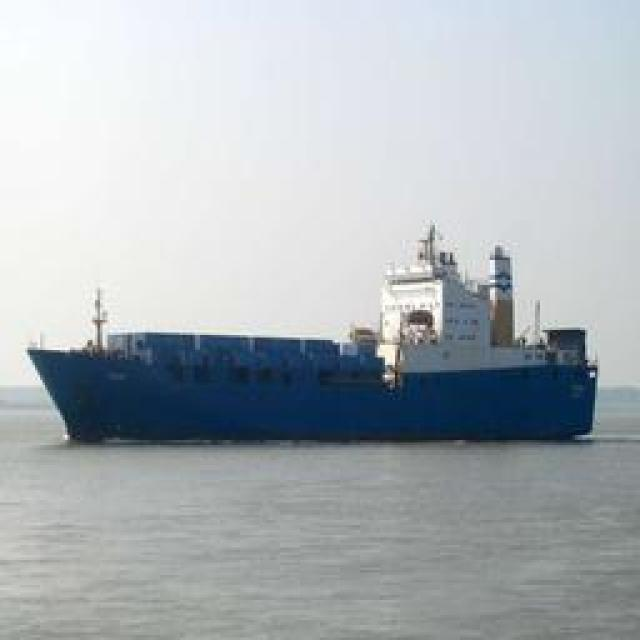CIV_Ship: (24, 238, 604, 444)
